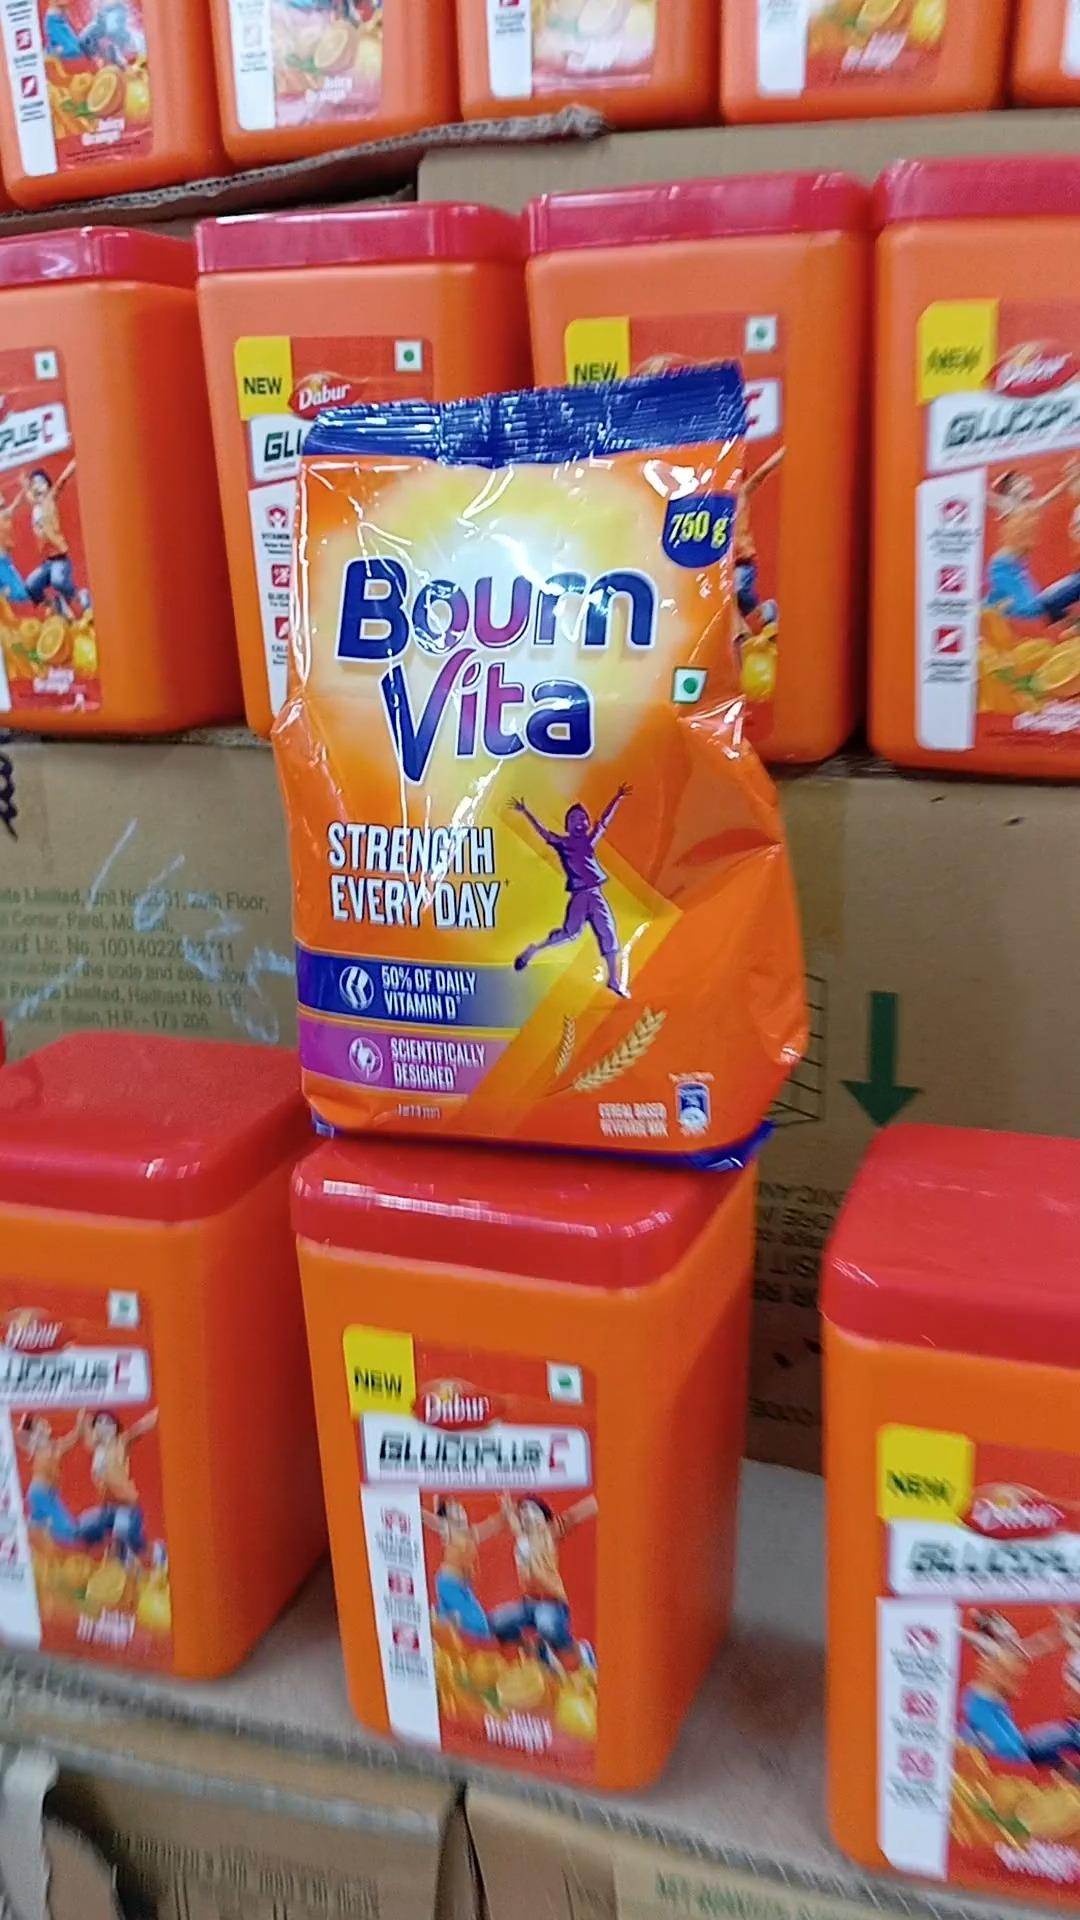BOURN_VITA_750_G_POUCH: (272, 393, 796, 1158)
